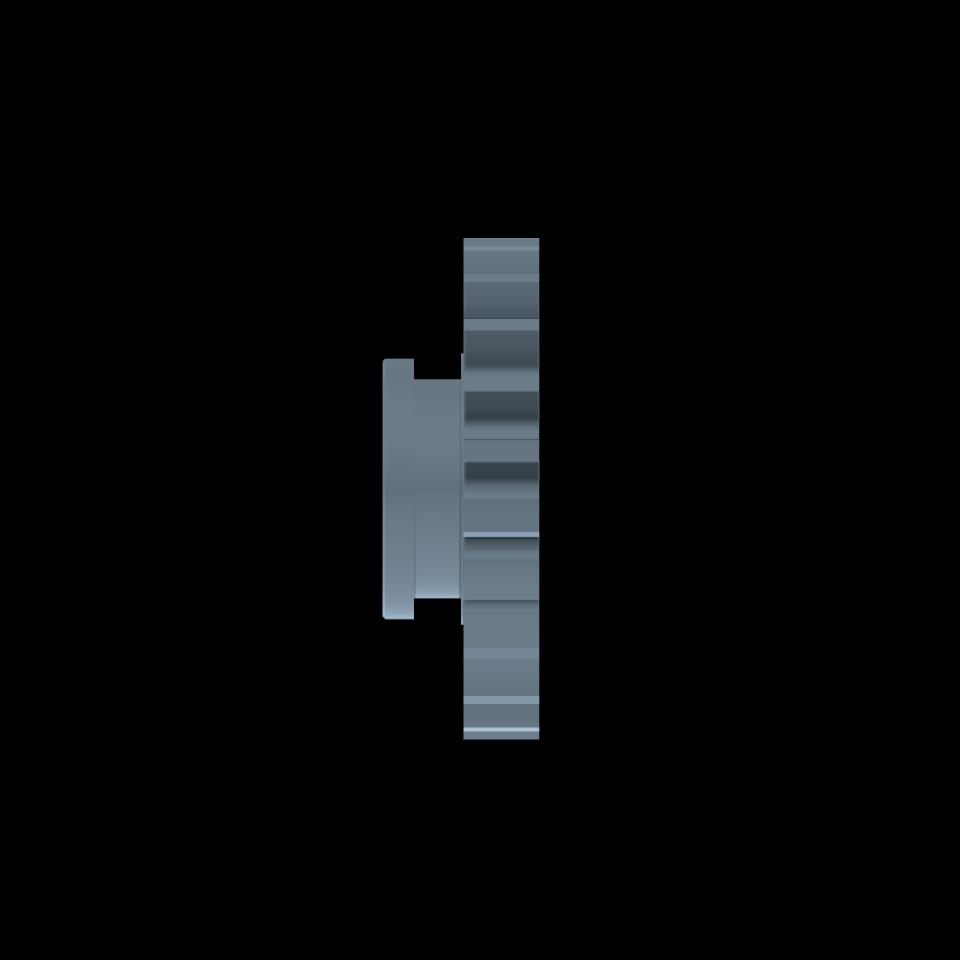Straight: (463, 238, 540, 739)
